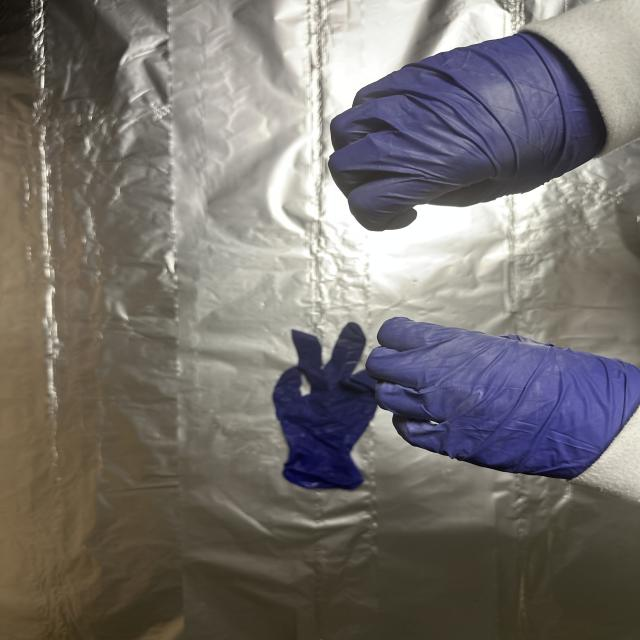gloves_contaminated: (329, 36, 604, 230), (366, 318, 640, 479)
